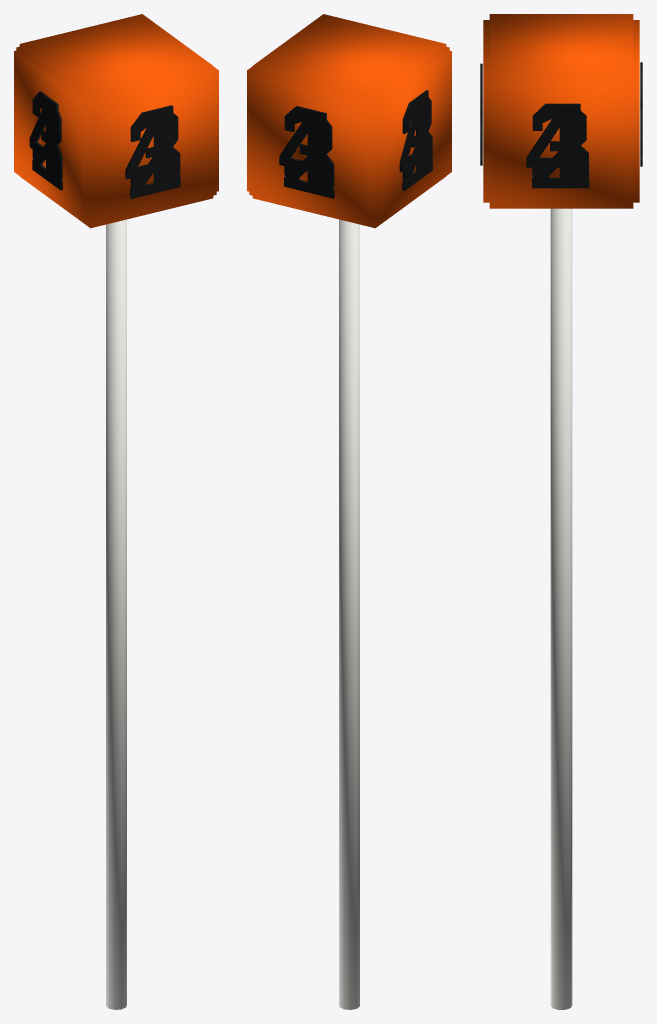
File: down_marker.glb
3 views of the same model, side by side, from view 1: azimuth 30°, elevation 25°; view 2: azimuth 150°, elevation 25°; view 3: azimuth 270°, elevation 25° (orthographic).
Visible parts, largest first — view 1: down_marker__prop_orange, down_marker__prop_white, down_2__prop_black, down_4__prop_black, down_1__prop_black, down_3__prop_black; view 2: down_marker__prop_orange, down_marker__prop_white, down_2__prop_black, down_1__prop_black, down_4__prop_black, down_3__prop_black; view 3: down_marker__prop_orange, down_marker__prop_white, down_4__prop_black, down_2__prop_black, down_1__prop_black, down_3__prop_black.
Boxes of the visible parts, x1,y1,x2,y2 form: down_marker__prop_orange: (14,14,218,228); down_marker__prop_white: (106,219,126,1009); down_2__prop_black: (32,91,179,198); down_4__prop_black: (29,98,180,191); down_1__prop_black: (33,96,180,196); down_3__prop_black: (32,107,180,195); down_marker__prop_orange: (247,14,451,228); down_marker__prop_white: (339,219,359,1009); down_2__prop_black: (284,93,432,197); down_1__prop_black: (286,94,432,198); down_4__prop_black: (279,90,432,198); down_3__prop_black: (284,96,432,194); down_marker__prop_orange: (483,14,639,208); down_marker__prop_white: (550,208,572,1009); down_4__prop_black: (480,62,642,188); down_2__prop_black: (480,63,642,188); down_1__prop_black: (480,66,642,188); down_3__prop_black: (480,93,642,188).
Size of the model in its own units: 0.374 by 2.44 by 0.374.
